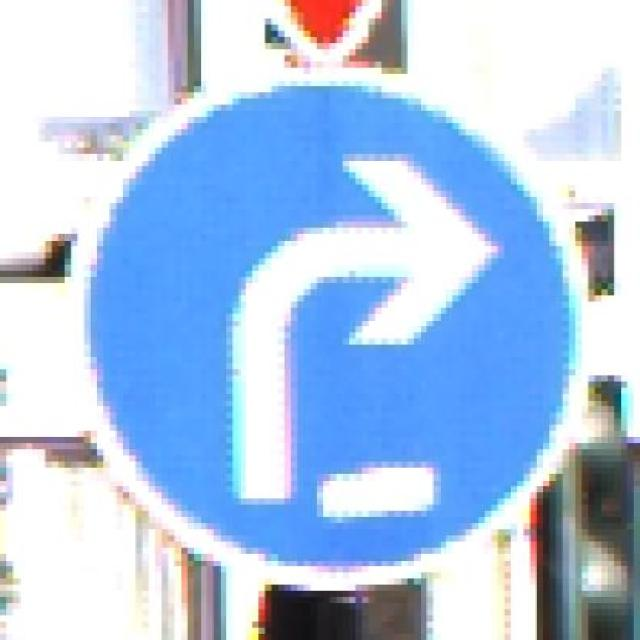Turn right ahead: (58, 68, 594, 603)
